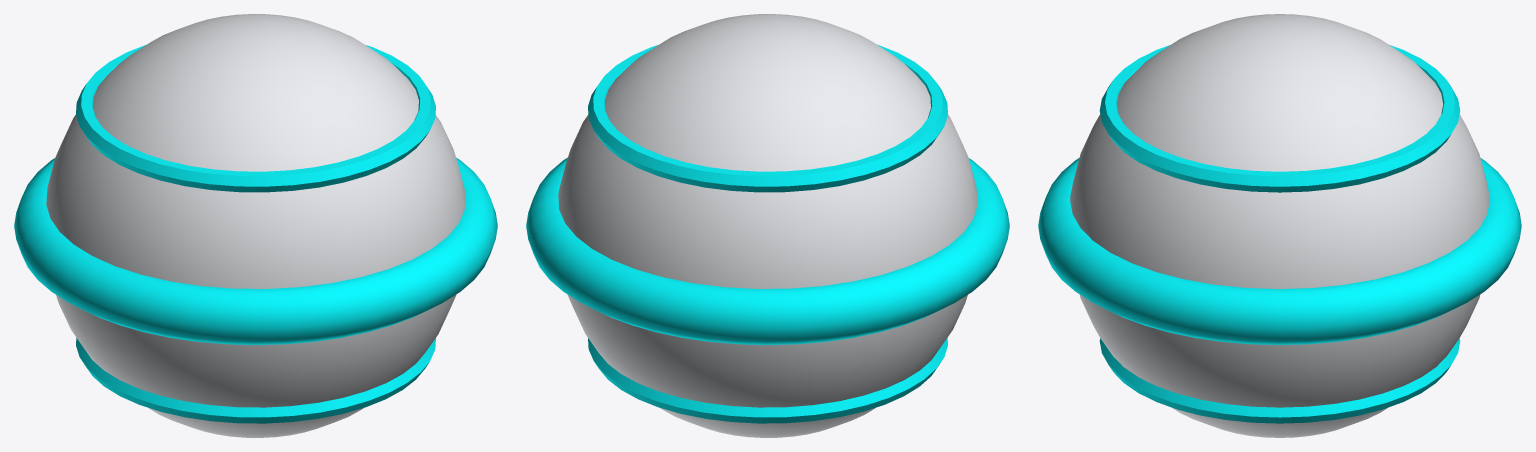
The model's file is pendulum_bob.glb.
3 views of the same model, side by side, from view 1: azimuth 30°, elevation 25°; view 2: azimuth 150°, elevation 25°; view 3: azimuth 270°, elevation 25° (orthographic).
Parts seen in each view (by area): view 1: Sphere; view 2: Sphere; view 3: Sphere.
Boxes of the visible parts, left/top/right/bottom form: Sphere: left=14, top=14, right=497, bottom=437; Sphere: left=526, top=14, right=1009, bottom=437; Sphere: left=1038, top=14, right=1521, bottom=437.
Bounding box in the file's own units: 1.14 × 1 × 1.14.
